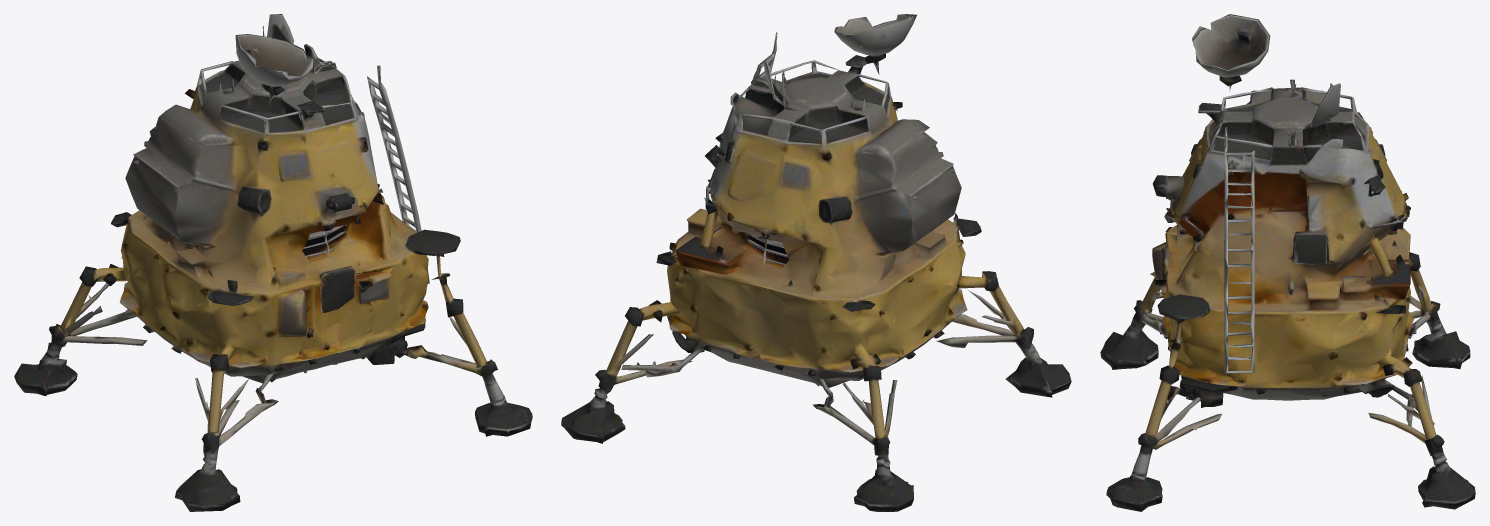
Rendered from modulo-luna.glb.
3 views of the same model, side by side, from view 1: azimuth 30°, elevation 25°; view 2: azimuth 150°, elevation 25°; view 3: azimuth 270°, elevation 25° (orthographic). The views are drawn at different scales.
Parts seen in each view (by area): view 1: tripo_node_1f898eb7-53ec-45c2-b9a7-02f57b365f88; view 2: tripo_node_1f898eb7-53ec-45c2-b9a7-02f57b365f88; view 3: tripo_node_1f898eb7-53ec-45c2-b9a7-02f57b365f88.
Part boxes in pixels (x1,y1,x2,y2): tripo_node_1f898eb7-53ec-45c2-b9a7-02f57b365f88: (14,14,532,511); tripo_node_1f898eb7-53ec-45c2-b9a7-02f57b365f88: (561,14,1071,511); tripo_node_1f898eb7-53ec-45c2-b9a7-02f57b365f88: (1100,14,1475,511).
Size of the model in its own units: 0.9371 by 1 by 0.8823.
1 material, 1 textured.
